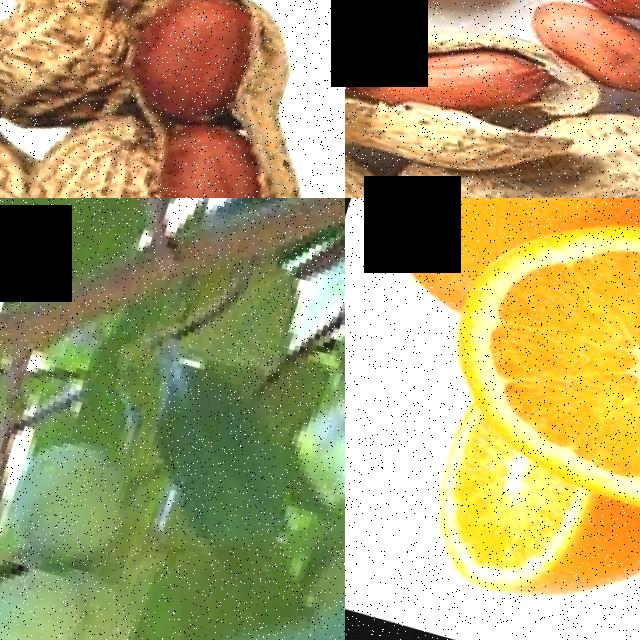orange: (423, 198, 640, 546), (392, 441, 640, 640)
peanuts: (0, 0, 186, 137), (371, 19, 561, 134), (125, 0, 268, 120), (514, 80, 640, 198), (144, 110, 296, 198), (513, 0, 640, 89), (0, 80, 58, 198), (345, 0, 395, 104)
